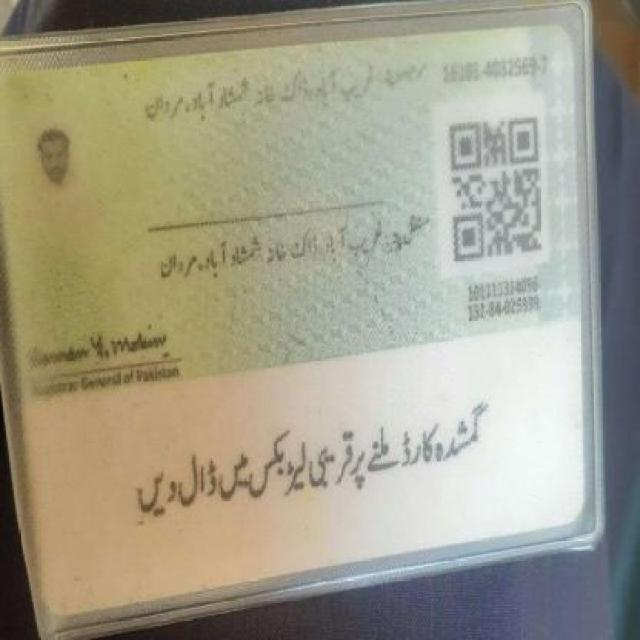Back: (11, 28, 582, 577)
